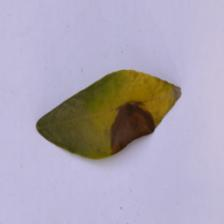black spot: (92, 94, 172, 154)
